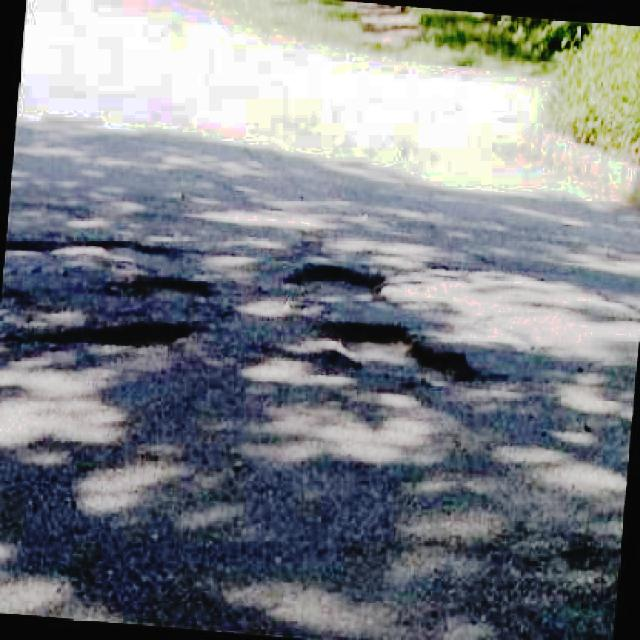pothole: (302, 312, 488, 394), (6, 235, 217, 297), (2, 312, 202, 377), (283, 262, 395, 308)
